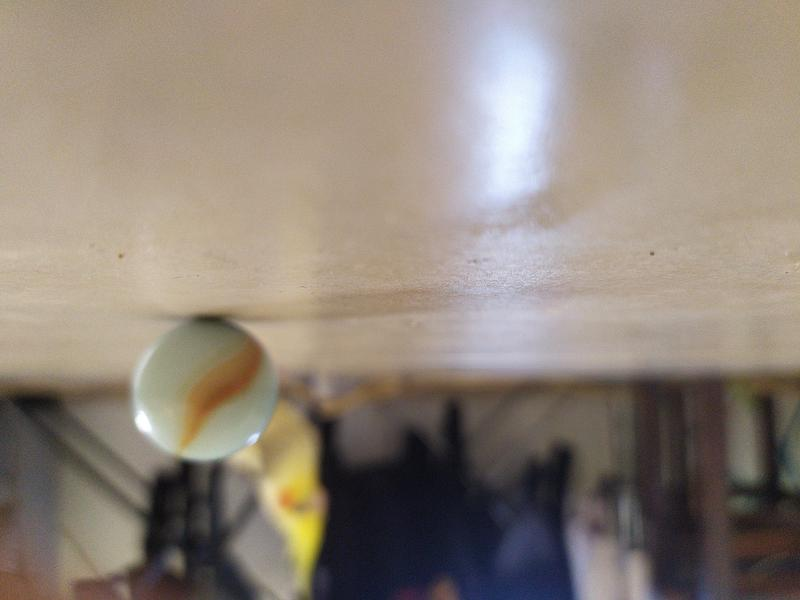Warning: (127, 310, 283, 466)
